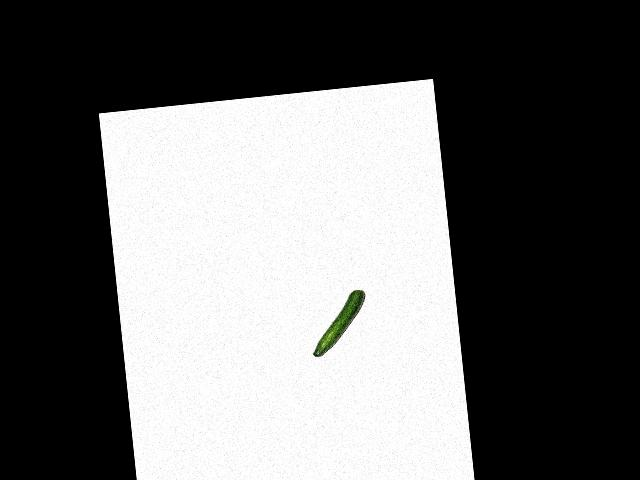cucumber: (307, 288, 371, 357)
